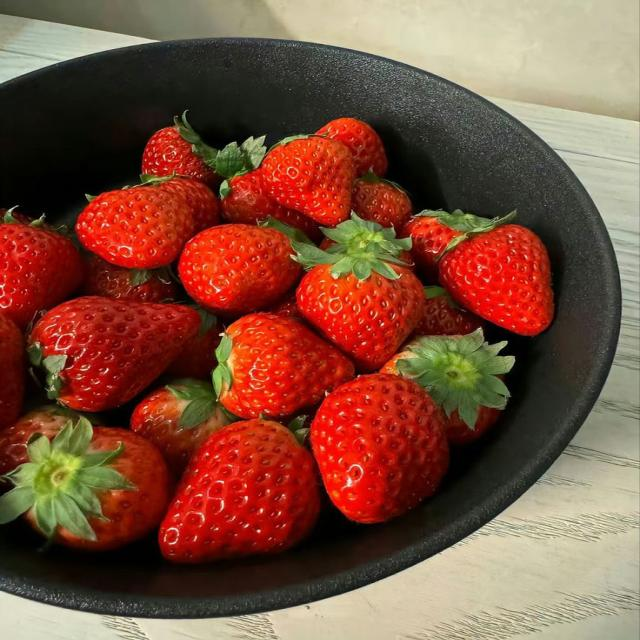strawberry: (160, 419, 320, 562), (0, 418, 170, 551), (311, 374, 448, 523), (294, 215, 424, 371), (29, 297, 200, 411), (381, 329, 514, 444), (214, 314, 353, 418), (439, 212, 553, 335), (212, 137, 321, 241), (179, 225, 300, 315), (131, 379, 236, 477), (76, 186, 194, 268), (0, 211, 82, 329), (261, 135, 355, 226), (221, 169, 321, 241), (142, 112, 220, 187), (0, 406, 78, 475), (141, 175, 220, 233), (82, 254, 177, 302), (400, 211, 462, 283), (317, 118, 387, 176), (166, 309, 222, 379), (352, 171, 412, 231), (414, 286, 485, 336), (0, 312, 26, 432), (268, 293, 306, 322), (399, 250, 414, 268)
